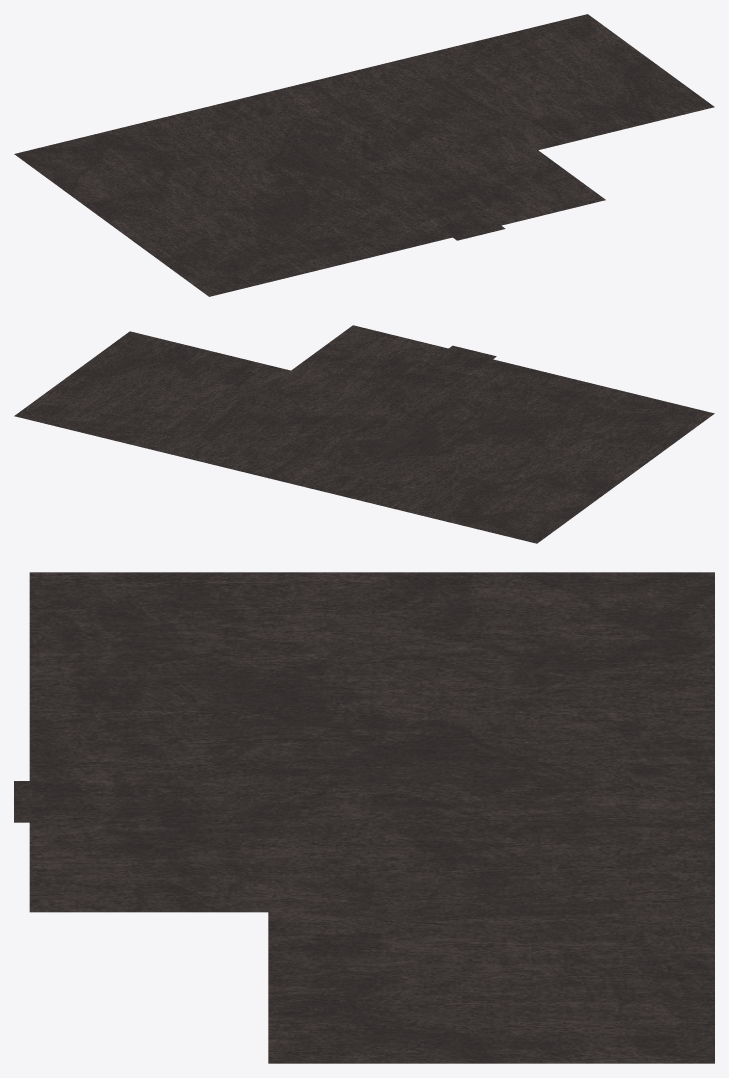
The model's file is bedroom_0_0.floor.glb.
3 renders of one model, top to bottom at view 1: azimuth 30°, elevation 25°; view 2: azimuth 150°, elevation 25°; view 3: azimuth 270°, elevation 25°, orthographic. The views are drawn at different scales.
Parts seen in each view (by area): view 1: bedroom_0/0.floor.001; view 2: bedroom_0/0.floor.001; view 3: bedroom_0/0.floor.001.
Boxes of the visible parts, <box> form: bedroom_0/0.floor.001: <box>14,14,714,296</box>; bedroom_0/0.floor.001: <box>14,325,714,543</box>; bedroom_0/0.floor.001: <box>14,572,714,1063</box>.
Size of the model in its own units: 9.74 by 2.03e-05 by 5.87.
Materials: 1 (1 with a texture image).
